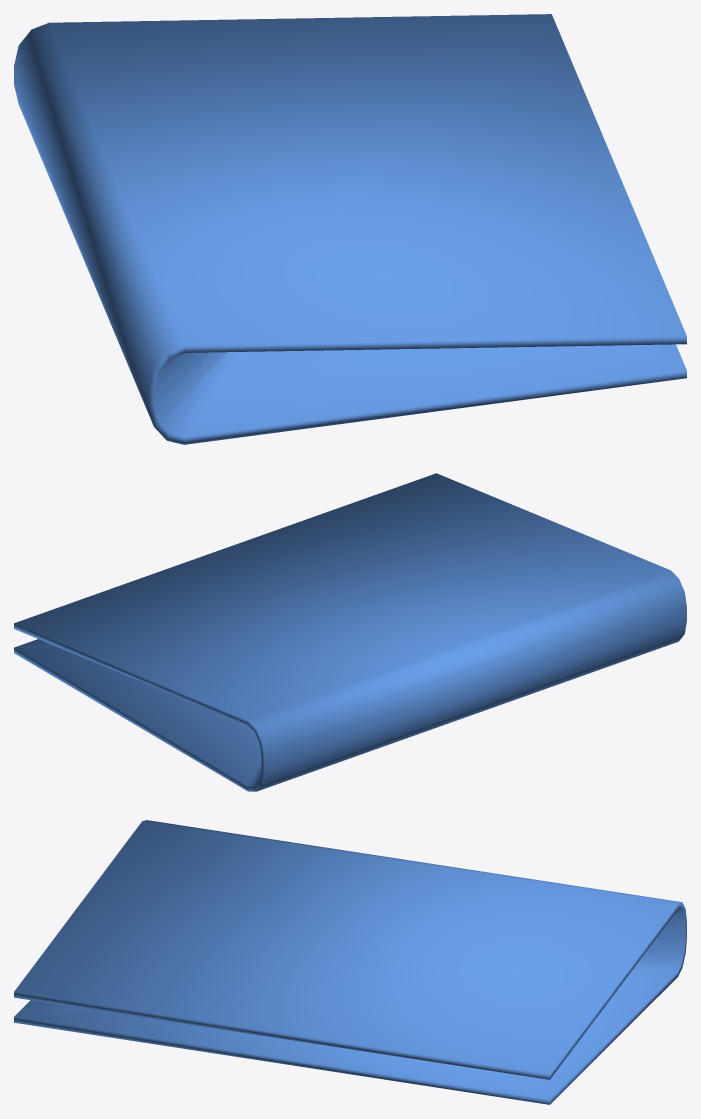
3 views of the same model, one above another, from view 1: azimuth 30°, elevation 25°; view 2: azimuth 150°, elevation 25°; view 3: azimuth 270°, elevation 25° (orthographic). The views are drawn at different scales.
Visible parts, largest first — view 1: file; view 2: file; view 3: file.
Boxes of the visible parts, x1,y1,x2,y2 form: file: [14, 14, 686, 444]; file: [14, 473, 686, 791]; file: [14, 820, 686, 1104].
Size of the model in its own units: 38.81 by 5.5 by 45.64.
